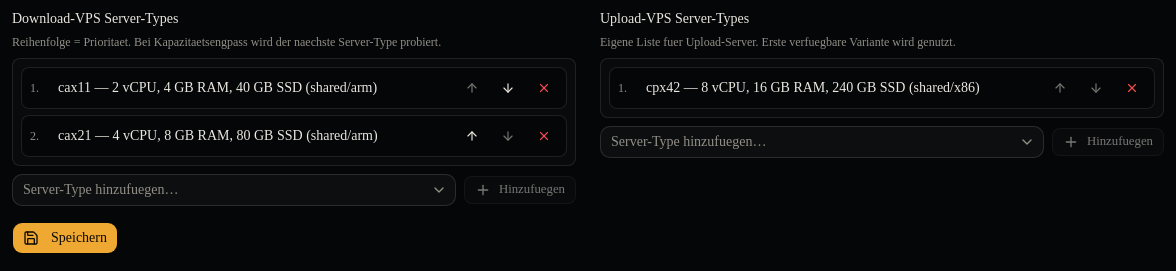
VpsServerTypesConfig › sendet zwei PUT-Requests mit JSON-Arrays beim Speichern
The width and height of the screenshot is (1176, 271).
Click the button "Speichern" at (65, 238), box [12,222,118,254]
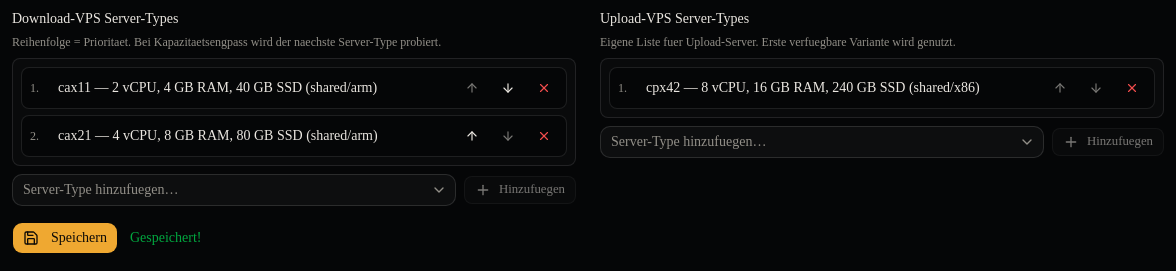
expect the text "Gespeichert!" is shown: met, box [130,228,202,248]
